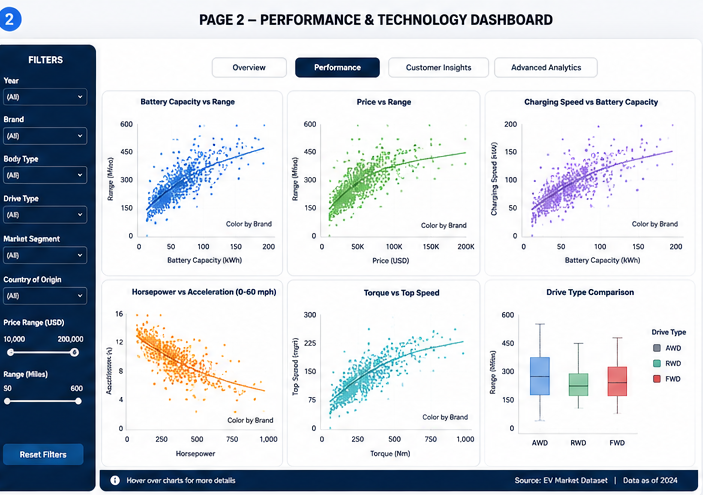

Layout of this report page (visuals, bound fields, positions):
{"tool":"powerbi","page":{"name":"Performance","canvas":[1280,720],"ordinal":1},"visuals":[{"type":"textbox","box":[0,6.5,1271.1,58.3],"z":0},{"type":"shape","box":[0,0,183,720.6],"z":1000},{"type":"scatterChart","title":"Battery Capacity vs Range","fields":{"X":["ev_market_2026.range_miles"],"Y":["ev_market_2026.battery_capacity_kwh"]},"box":[180.8,199.1,360.1,249.2],"z":4000},{"type":"cardVisual","title":"Average Price(USD)","fields":{"Data":["Measures_Table.Avg_Price"]},"box":[392.3,118,211.1,74.2],"z":5000},{"type":"cardVisual","title":"Average Range","fields":{"Data":["Measures_Table.Avg_range"]},"box":[616.5,118,209.6,74.2],"z":6000},{"type":"cardVisual","title":"Total Vehicles","fields":{"Data":["Measures_Table.Total_cars"]},"box":[181.9,115.5,199.2,72.9],"z":10000},{"type":"cardVisual","title":"Avg. Rating","fields":{"Data":["Measures_Table.Avg_rating"]},"box":[840.4,119.8,208.9,72.9],"z":11000},{"type":"textbox","box":[14.6,29.1,136,51.8],"z":13000},{"type":"scatterChart","title":"Customer Rating vs Range","fields":{"X":["ev_market_2026.range_miles"],"Y":["ev_market_2026.customer_rating"]},"box":[922.8,200.4,348.1,249.4],"z":14000},{"type":"image","box":[147.3,3.2,244.5,103.6],"z":19000},{"type":"scatterChart","title":"Price vs Range","fields":{"X":["ev_market_2026.range_miles"],"Y":["ev_market_2026.price_usd"]},"box":[547.1,200.6,372.3,249.2],"z":20000},{"type":"shape","box":[0.8,0,1279.2,717.3],"z":22000},{"type":"slicer","title":"Country of Origin","fields":{"Values":["ev_market_2026.country_of_origin"]},"box":[14.6,349.8,149,98.8],"z":22250},{"type":"clusteredColumnChart","title":"Top 10 Brands by Average Price(USD)","fields":{"Y":["Measures_Table.Avg_Price"],"Category":["ev_market_2026.brand"]},"box":[730.7,459.5,541.5,260.5],"z":22312},{"type":"cardVisual","title":"Total Sales(USD)","fields":{"Data":["Measures_Table.Total_sales"]},"box":[1062.2,119.8,208.9,72.9],"z":22343},{"type":"clusteredColumnChart","title":"Top 10 Brands by Average Range(miles)","fields":{"Y":["Measures_Table.Avg_range"],"Category":["ev_market_2026.brand"]},"box":[181.4,456.6,540.8,260.7],"z":22375},{"type":"slicer","title":"Brand","fields":{"Values":["ev_market_2026.brand"]},"box":[14.6,163,148.5,72.8],"z":22500},{"type":"pageNavigator","box":[696.3,71.2,574.8,38.9],"z":22531},{"type":"slicer","title":"Range(Miles)","fields":{"Values":["ev_market_2026.price_usd"]},"box":[1.6,563.5,183,106.9],"z":22562},{"type":"slicer","title":"Price Range(USD)","fields":{"Values":["ev_market_2026.price_usd"]},"box":[0,456.6,183,106.9],"z":22625},{"type":"slicer","title":"Body Type","fields":{"Values":["ev_market_2026.body_type"]},"box":[14.6,248.9,148.5,77.1],"z":22750},{"type":"slicer","title":"Year","fields":{"Values":["ev_market_2026.year"]},"box":[14.6,84.4,148.5,72.8],"z":23000}]}

Visuals, with their boxes on the page's 1280x720 design canvas (x1, y1, x2, y2). These are canvas units, not pixel positions in the 703x495 screenshot, which may show the page scaled, cropped or inside an application window:
textbox: x1=0, y1=6, x2=1271, y2=65
shape: x1=0, y1=0, x2=183, y2=721
"Battery Capacity vs Range" scatterChart: x1=181, y1=199, x2=541, y2=448
"Average Price(USD)" cardVisual: x1=392, y1=118, x2=603, y2=192
"Average Range" cardVisual: x1=616, y1=118, x2=826, y2=192
"Total Vehicles" cardVisual: x1=182, y1=116, x2=381, y2=188
"Avg. Rating" cardVisual: x1=840, y1=120, x2=1049, y2=193
textbox: x1=15, y1=29, x2=151, y2=81
"Customer Rating vs Range" scatterChart: x1=923, y1=200, x2=1271, y2=450
image: x1=147, y1=3, x2=392, y2=107
"Price vs Range" scatterChart: x1=547, y1=201, x2=919, y2=450
shape: x1=1, y1=0, x2=1280, y2=717
"Country of Origin" slicer: x1=15, y1=350, x2=164, y2=449
"Top 10 Brands by Average Price(USD)" clusteredColumnChart: x1=731, y1=460, x2=1272, y2=720
"Total Sales(USD)" cardVisual: x1=1062, y1=120, x2=1271, y2=193
"Top 10 Brands by Average Range(miles)" clusteredColumnChart: x1=181, y1=457, x2=722, y2=717
"Brand" slicer: x1=15, y1=163, x2=163, y2=236
pageNavigator: x1=696, y1=71, x2=1271, y2=110
"Range(Miles)" slicer: x1=2, y1=564, x2=185, y2=670
"Price Range(USD)" slicer: x1=0, y1=457, x2=183, y2=564
"Body Type" slicer: x1=15, y1=249, x2=163, y2=326
"Year" slicer: x1=15, y1=84, x2=163, y2=157
